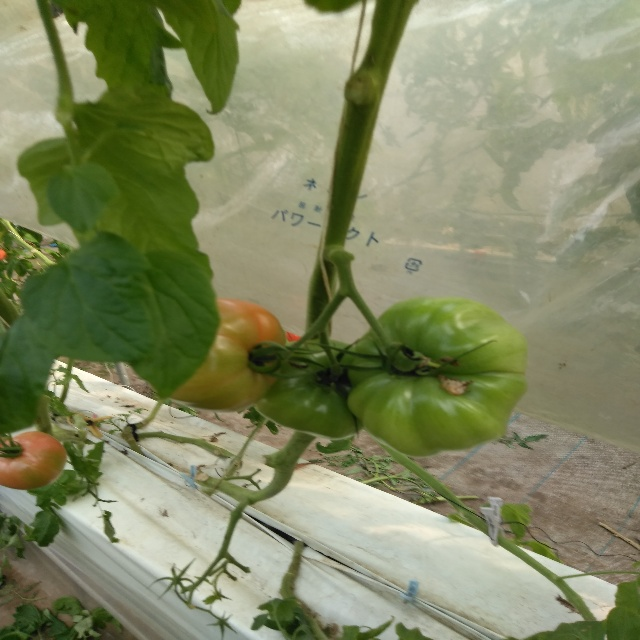b_green: (347, 296, 529, 458), (254, 337, 363, 440)
b_half_ripened: (167, 297, 287, 413), (0, 431, 67, 490)
